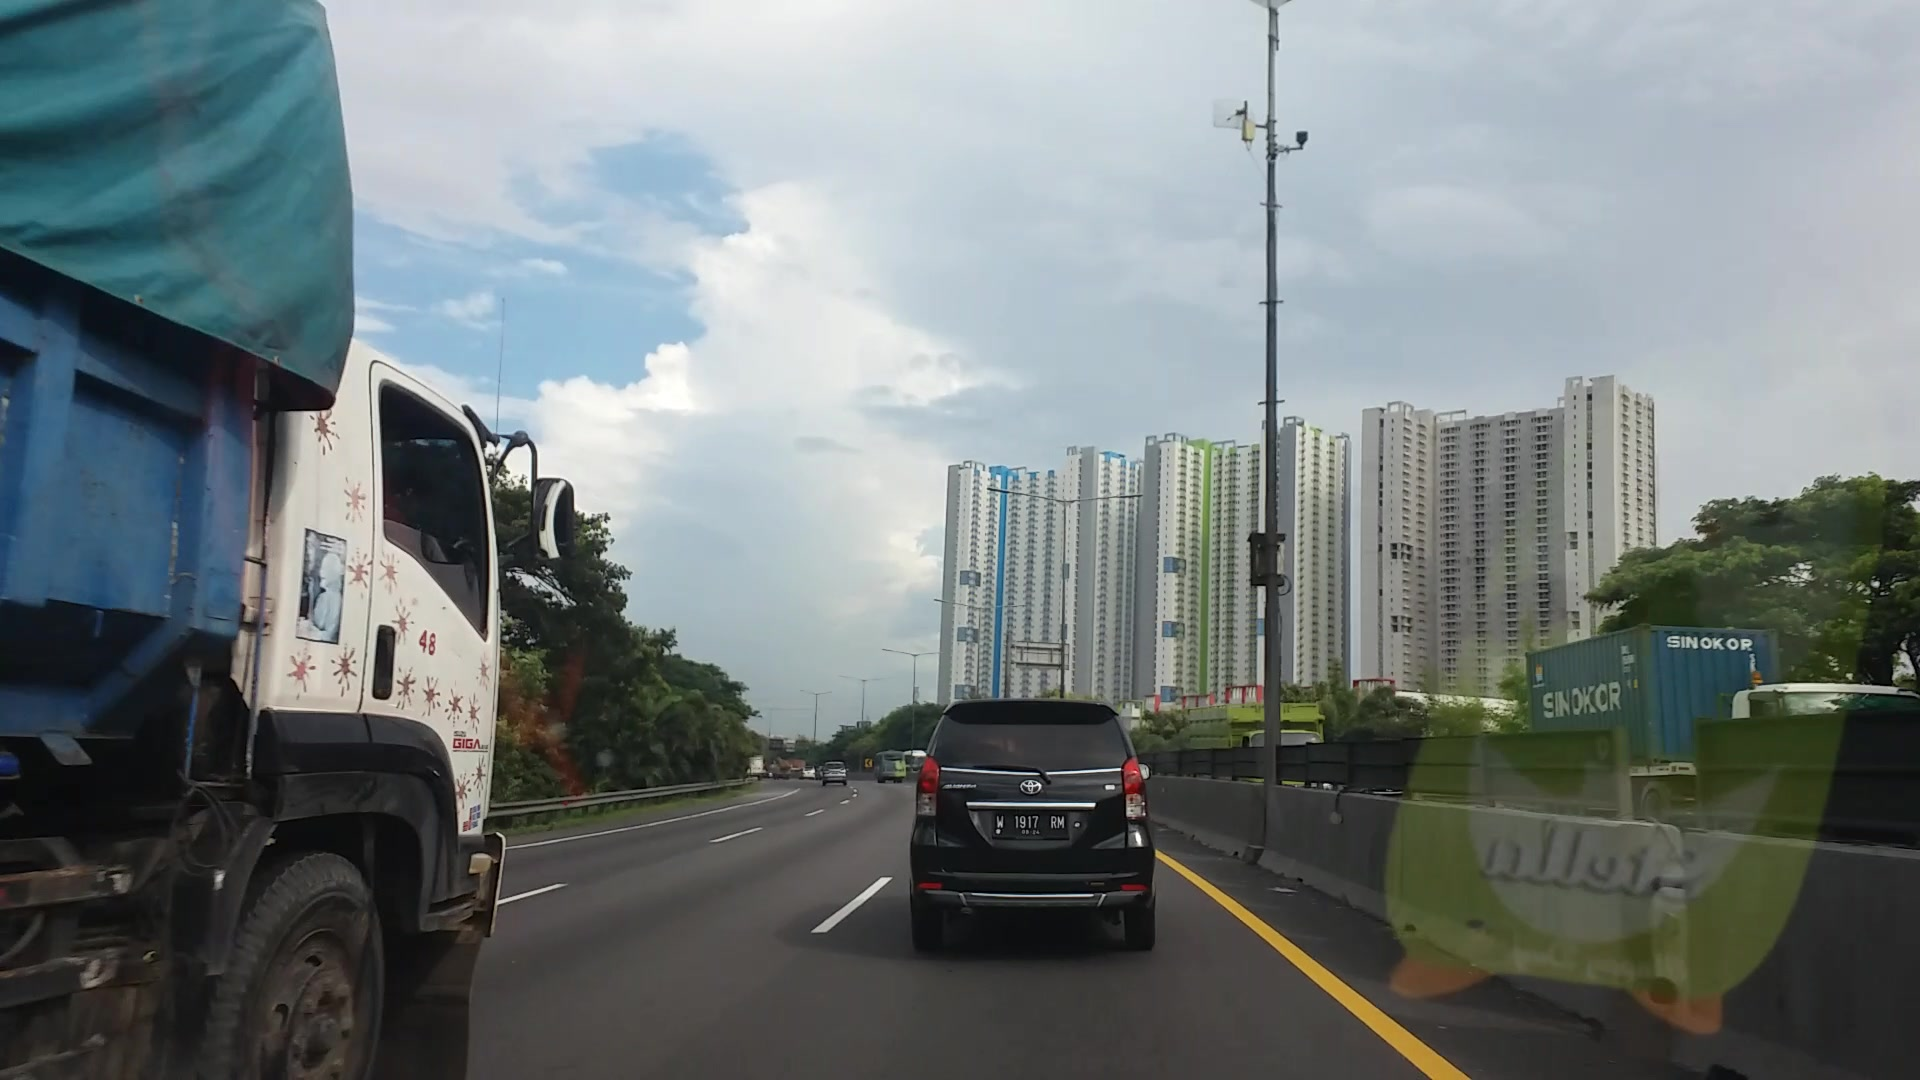plate_positive: (993, 812, 1067, 837)
